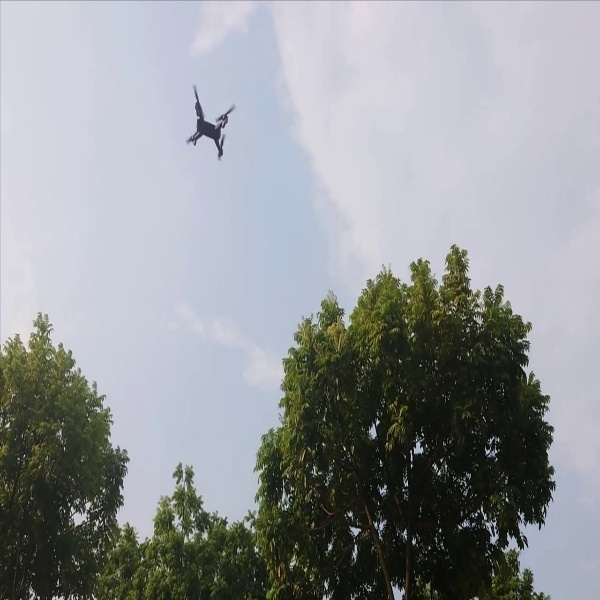drone: (169, 75, 245, 169)
